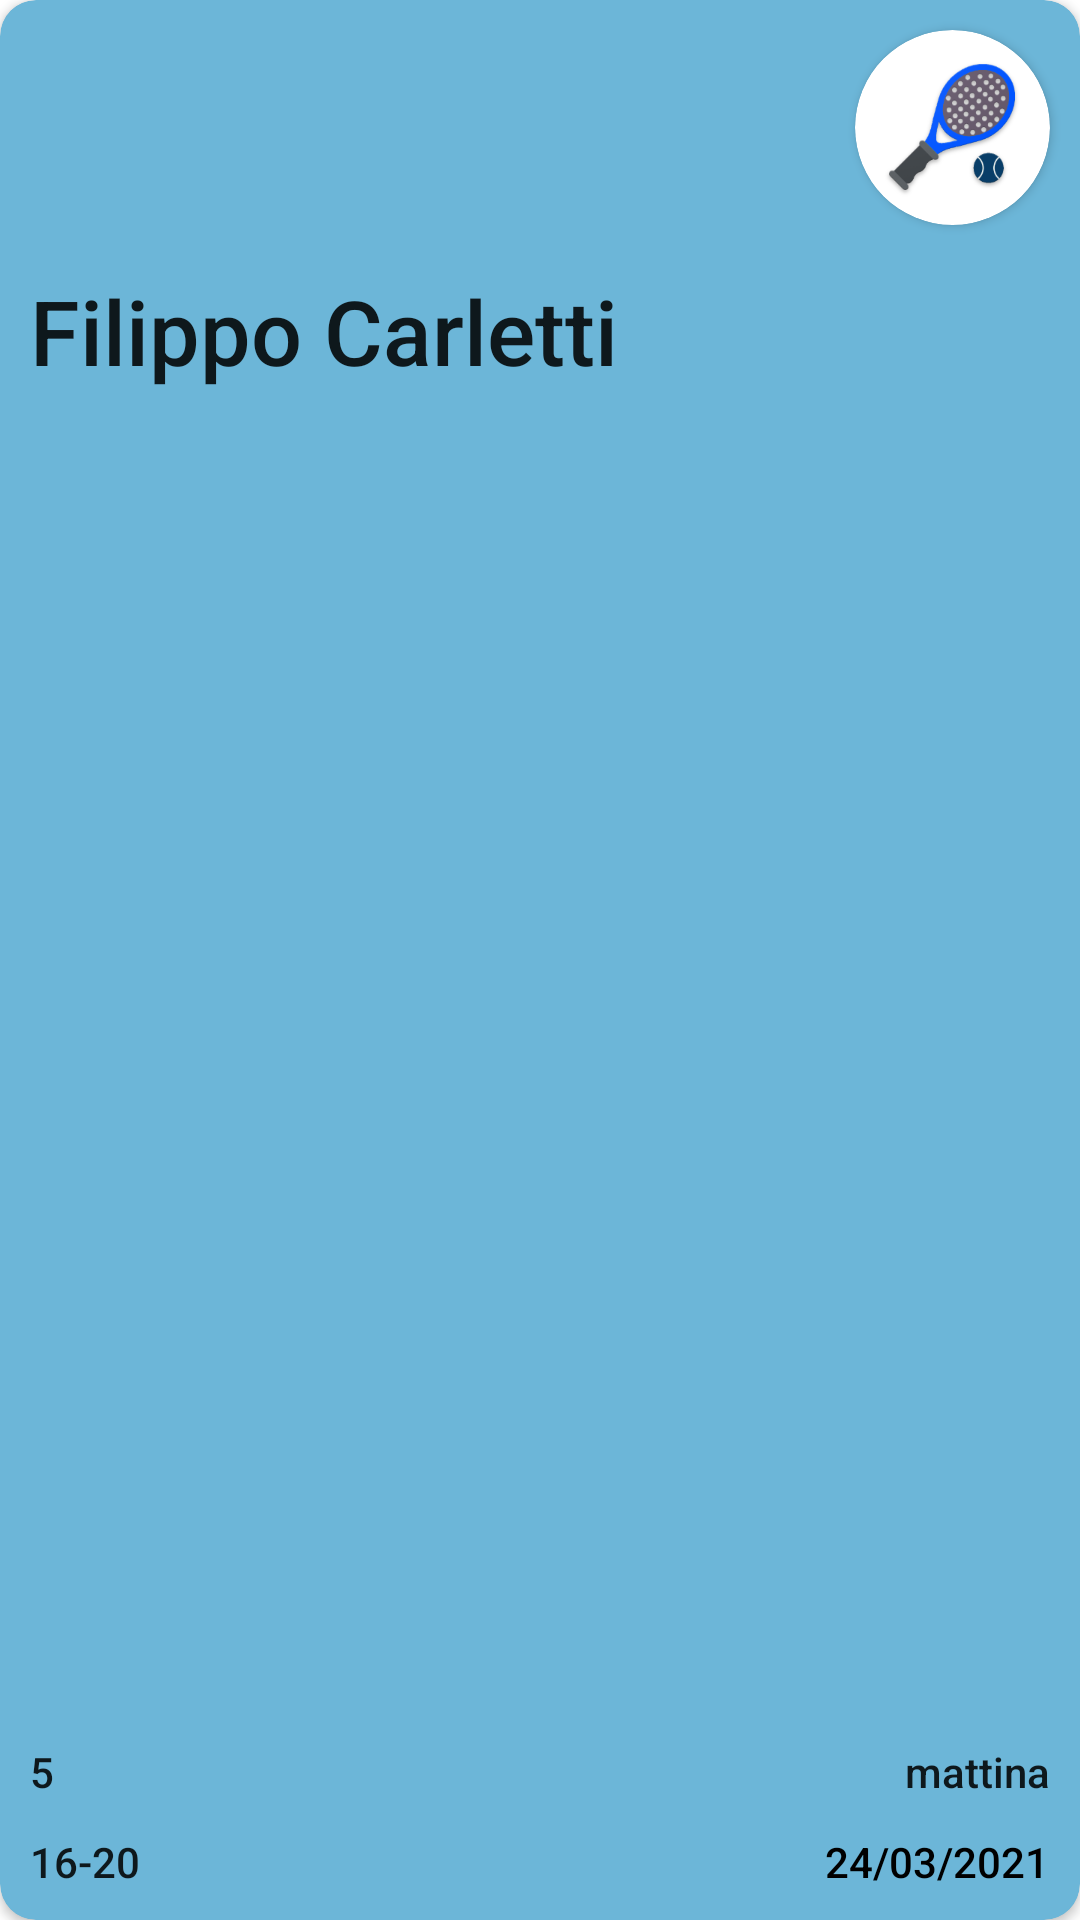

Point at icon controls on the screen. Image size 1080w x 1920h, points as (x=x, y=y).
paddle: (x=952, y=128)
